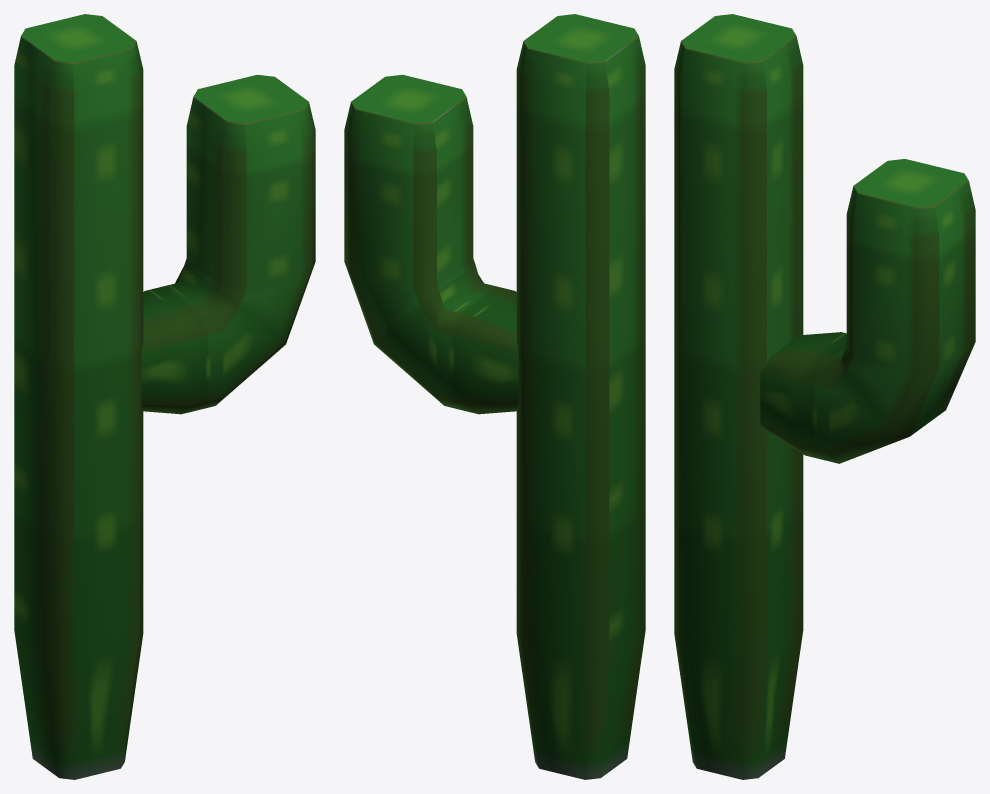
The model's file is cactus_v058.fbx.
3 views of the same model, side by side, from view 1: azimuth 30°, elevation 25°; view 2: azimuth 150°, elevation 25°; view 3: azimuth 330°, elevation 25° (orthographic).
Parts seen in each view (by area): view 1: cactus_v058; view 2: cactus_v058; view 3: cactus_v058.
Part boxes in pixels (<box>): cactus_v058: <box>14,14,315,779</box>; cactus_v058: <box>344,14,645,779</box>; cactus_v058: <box>674,14,975,779</box>.
Bounding box in the file's own units: 117 × 305 × 40.94.
